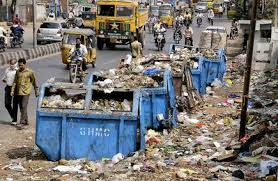garbage: (57, 158, 278, 179), (187, 102, 237, 181), (48, 86, 134, 117), (123, 53, 184, 83), (254, 76, 278, 150), (183, 46, 221, 61)
